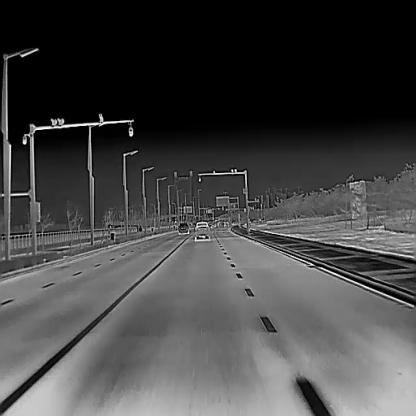car: (194, 220, 210, 240), (177, 221, 190, 233)
